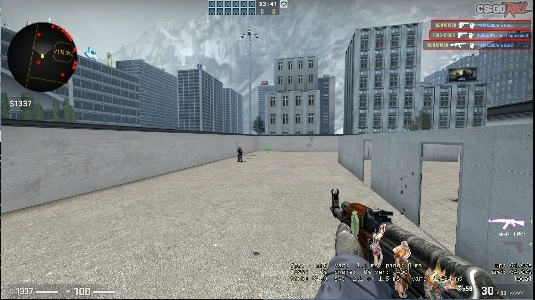body: (236, 146, 244, 162)
head: (237, 146, 241, 150)
